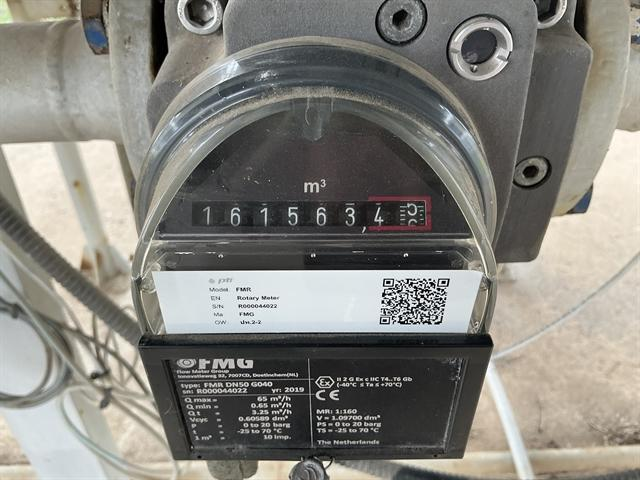analog_dial: (186, 194, 436, 234)
